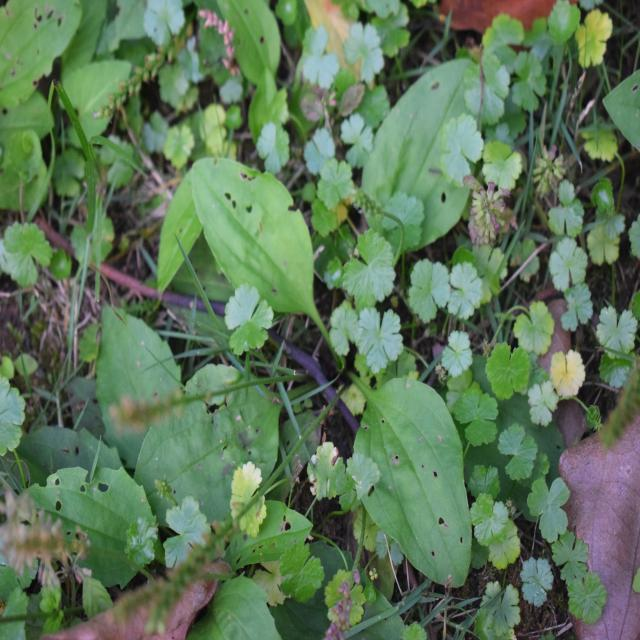plantain: (150, 81, 452, 531)
